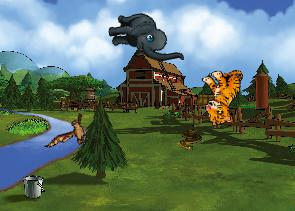eagle: (44, 105, 98, 163)
elephant: (105, 5, 184, 73)
tiger: (196, 64, 252, 127)
